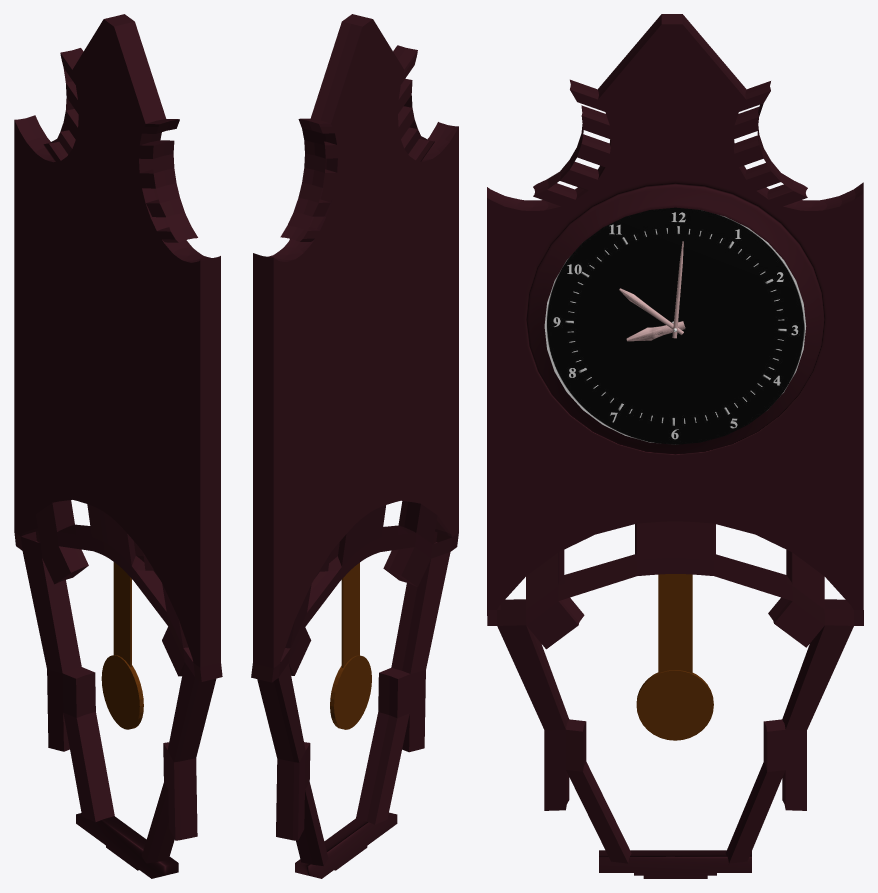
File: Clock.glb
The picture shows the model from 3 angles, left to right: view 1: azimuth 30°, elevation 25°; view 2: azimuth 150°, elevation 25°; view 3: azimuth 270°, elevation 25°; orthographic projection.
Visible parts, largest first — view 1: Cube, Cylinder.001; view 2: Cube, Cylinder.001; view 3: Cube, Cylinder, Cylinder.001.
Boxes of the visible parts, x1,y1,x2,y2 form: Cube: (14,14,222,878); Cylinder.001: (101,562,143,729); Cube: (251,14,458,878); Cylinder.001: (330,563,371,729); Cube: (487,14,863,878); Cylinder: (523,180,827,455); Cylinder.001: (636,574,713,740).
Size of the model in its own units: 0.3951 by 6.77 by 2.71.
4 materials, 1 textured.
